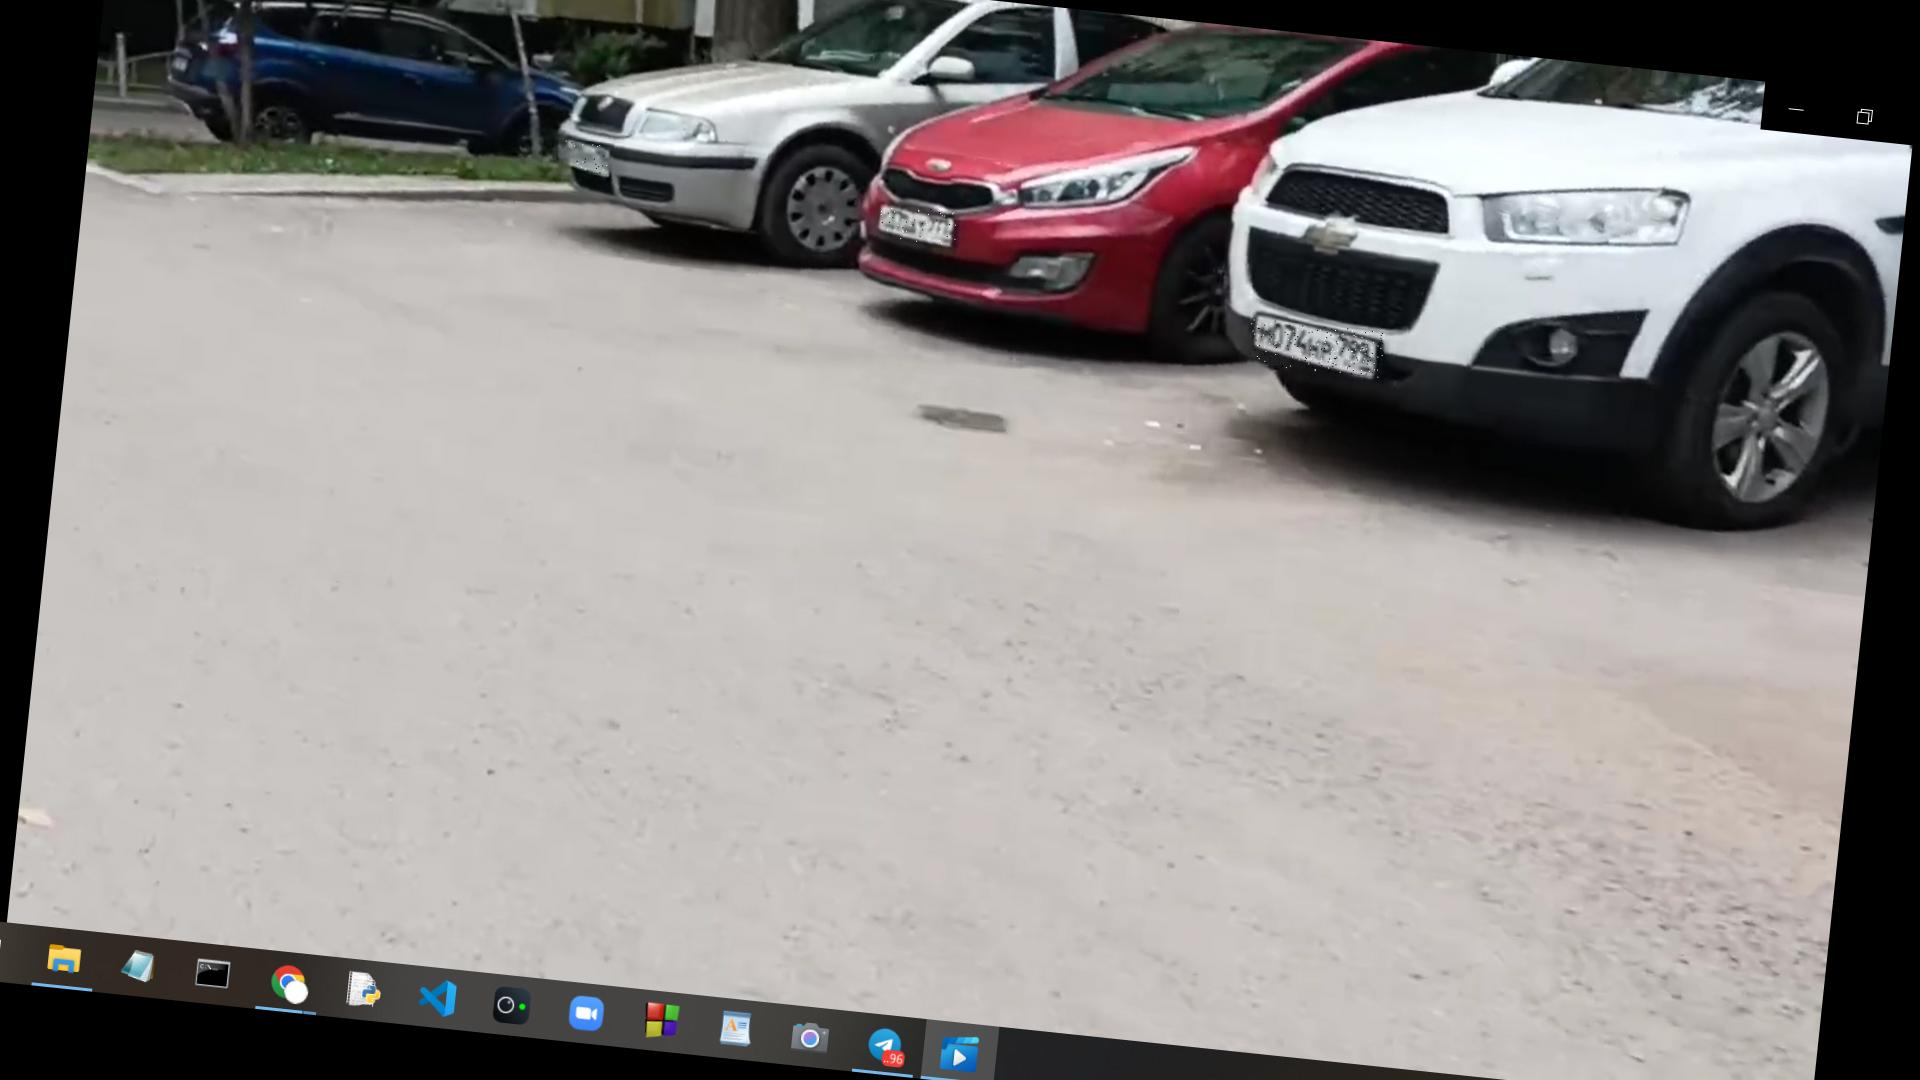plate: (1248, 320, 1387, 380), (877, 205, 960, 247), (563, 141, 616, 178)
